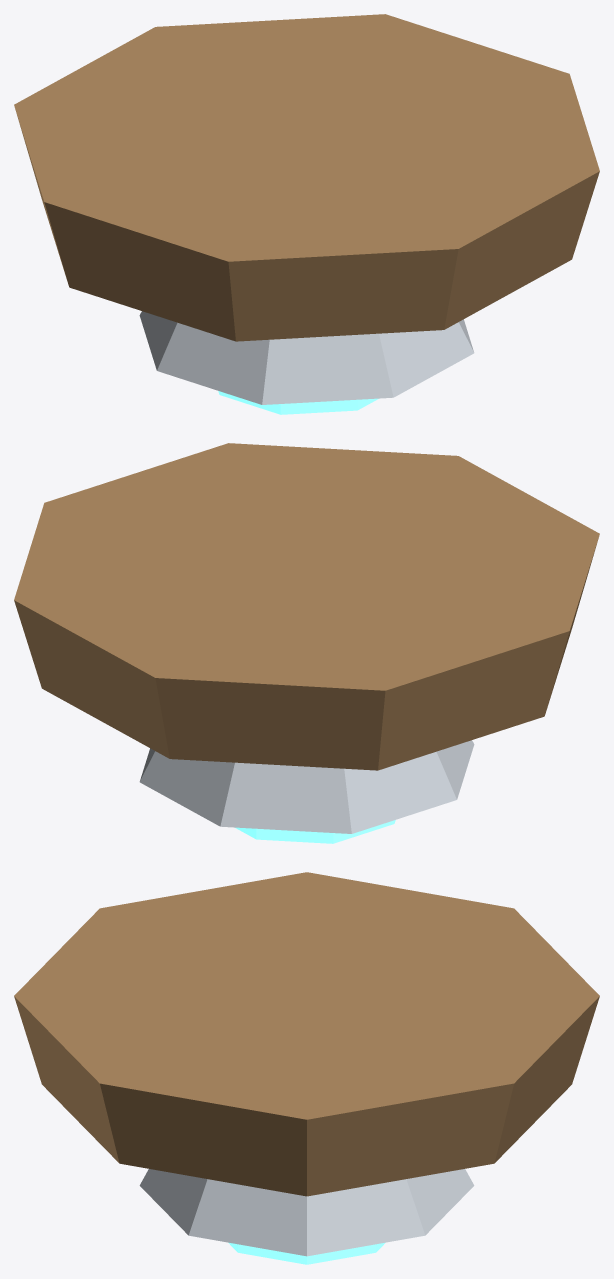
Rendered from Prop_HoverStool.fbx.
3 views of the same model, one above another, from view 1: azimuth 30°, elevation 25°; view 2: azimuth 150°, elevation 25°; view 3: azimuth 270°, elevation 25° (orthographic). The views are drawn at different scales.
Visible parts, largest first — view 1: Prop_HoverStool; view 2: Prop_HoverStool; view 3: Prop_HoverStool.
Part boxes in pixels (bbox=[...]): Prop_HoverStool: bbox=[14, 14, 599, 414]; Prop_HoverStool: bbox=[14, 443, 599, 843]; Prop_HoverStool: bbox=[14, 872, 599, 1264].
Bounding box in the file's own units: 0.42 × 0.18 × 0.42.
